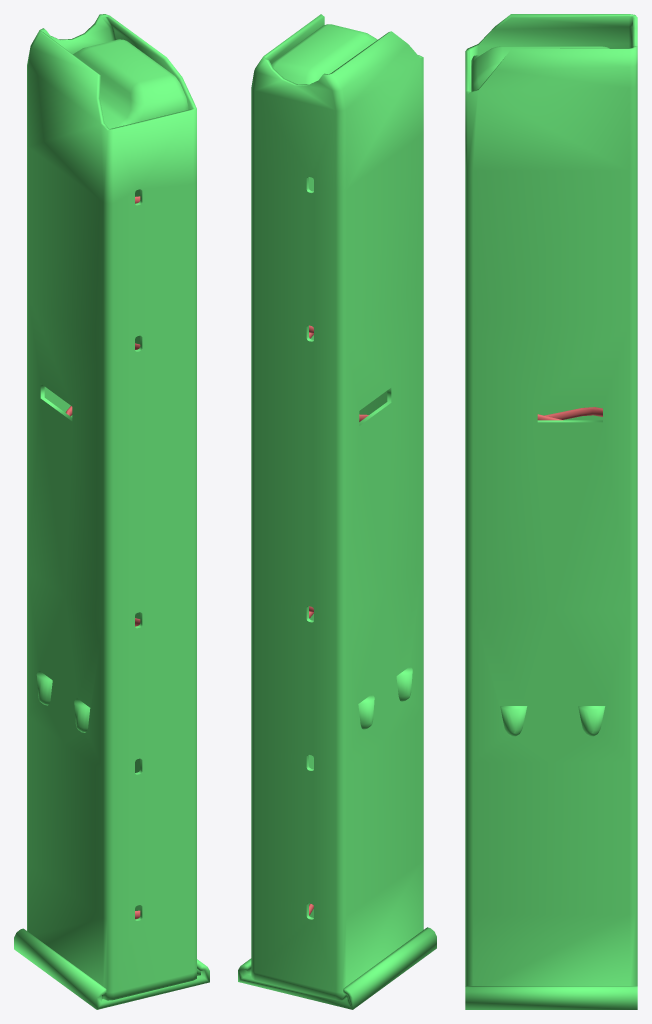
Rendered from SM_UZIMag.fbx.
3 views of the same model, side by side, from view 1: azimuth 30°, elevation 25°; view 2: azimuth 150°, elevation 25°; view 3: azimuth 270°, elevation 25° (orthographic). The views are drawn at different scales.
Visible parts, largest first — view 1: Uzi.001; view 2: Uzi.001; view 3: Uzi.001.
Part boxes in pixels (x1,y1,x2,y2): Uzi.001: [14, 14, 209, 1009]; Uzi.001: [238, 14, 436, 1009]; Uzi.001: [465, 14, 637, 1009].
Size of the model in its own units: 2.39 by 18.53 by 3.04.
